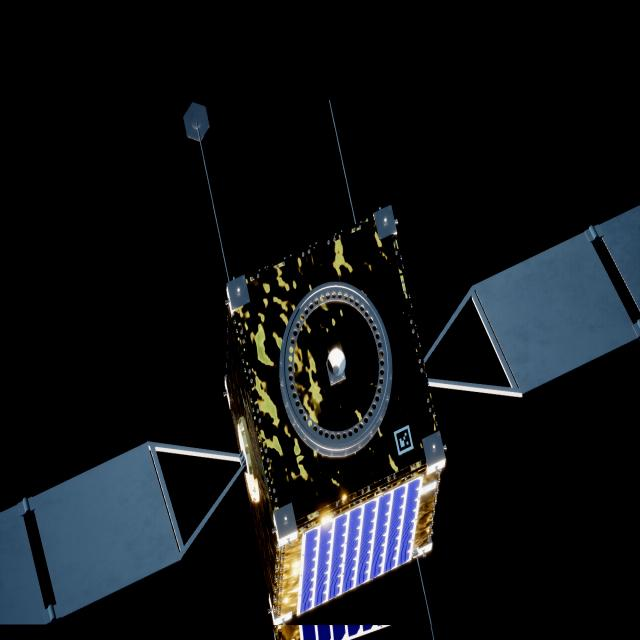satellite: (0, 206, 640, 633)
